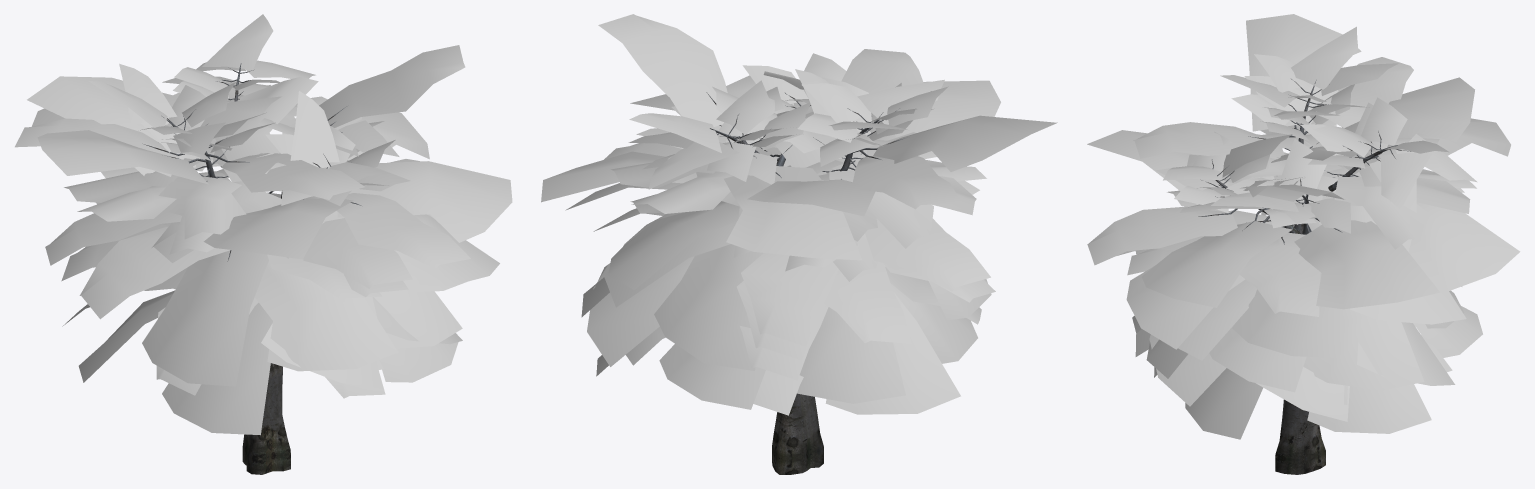
Rendered from a015zzzzza.fbx.
The picture shows the model from 3 angles, left to right: view 1: azimuth 30°, elevation 25°; view 2: azimuth 150°, elevation 25°; view 3: azimuth 270°, elevation 25°; orthographic projection. The views are drawn at different scales.
Visible parts, largest first — view 1: Cylinder.644; view 2: Cylinder.644; view 3: Cylinder.644.
Part boxes in pixels (bbox=[...]): Cylinder.644: bbox=[15, 14, 512, 474]; Cylinder.644: bbox=[541, 14, 1057, 474]; Cylinder.644: bbox=[1087, 14, 1520, 474].
Size of the model in its own units: 31.73 by 28.05 by 29.65.
